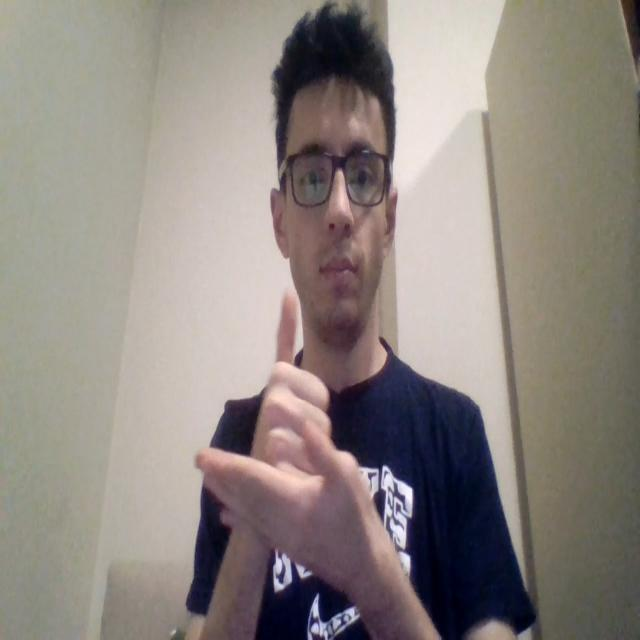help: (195, 289, 374, 590)
